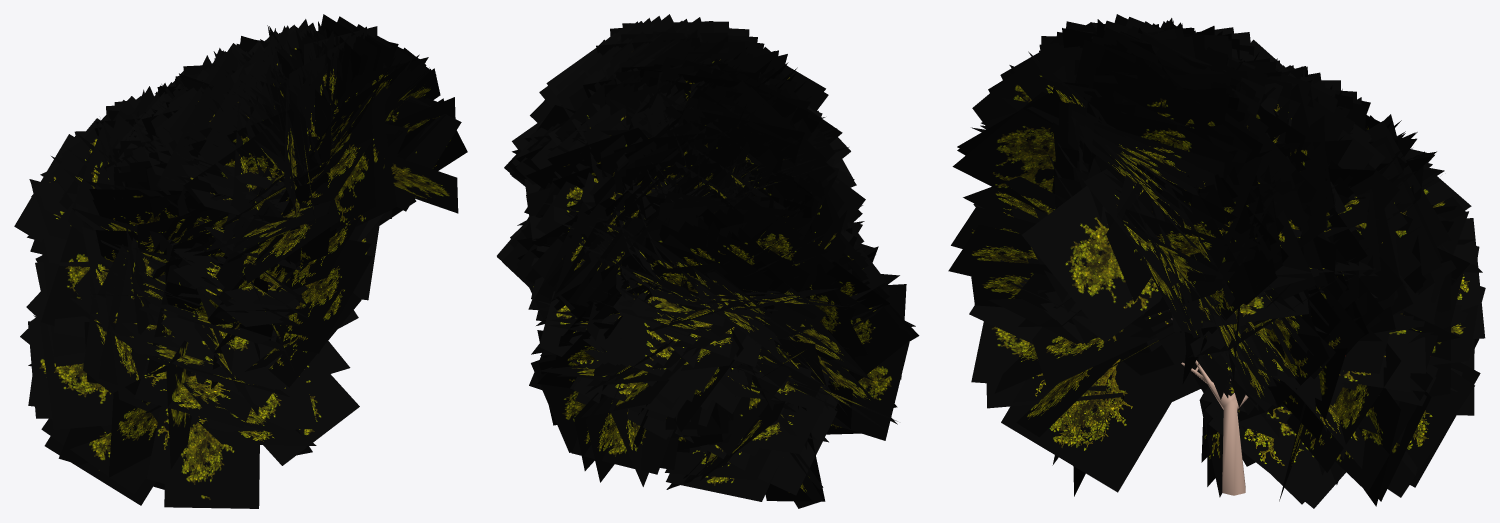
Rendered from arbre4.glb.
3 renders of one model, left to right at view 1: azimuth 30°, elevation 25°; view 2: azimuth 150°, elevation 25°; view 3: azimuth 270°, elevation 25°, orthographic. The views are drawn at different scales.
Bounding box in the file's own units: 8.6 × 8.8 × 7.87.
2 materials, 1 textured.
